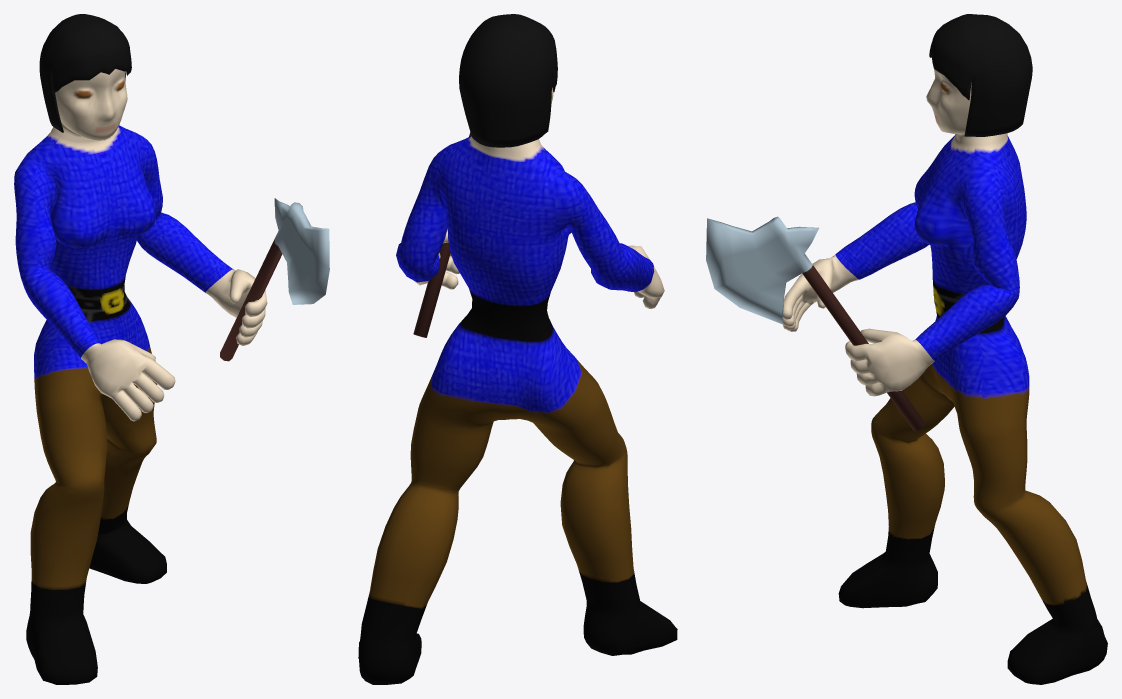
The model's file is Player05Menus.dae.
The picture shows the model from 3 angles, left to right: view 1: azimuth 30°, elevation 25°; view 2: azimuth 150°, elevation 25°; view 3: azimuth 270°, elevation 25°; orthographic projection. The views are drawn at different scales.
Parts seen in each view (by area): view 1: Player05ForMenus; view 2: Player05ForMenus; view 3: Player05ForMenus.
Boxes of the visible parts, bbox=[...] form: Player05ForMenus: bbox=[14, 14, 329, 684]; Player05ForMenus: bbox=[358, 14, 677, 684]; Player05ForMenus: bbox=[706, 14, 1107, 684].
Bounding box in the file's own units: 0.7728 × 1.14 × 1.93.
Materials: 4 (1 with a texture image).
